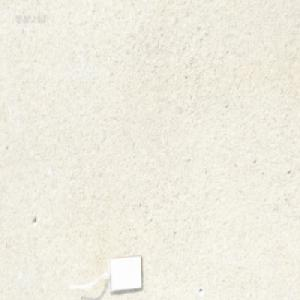LuggageTag: (68, 252, 144, 294)
